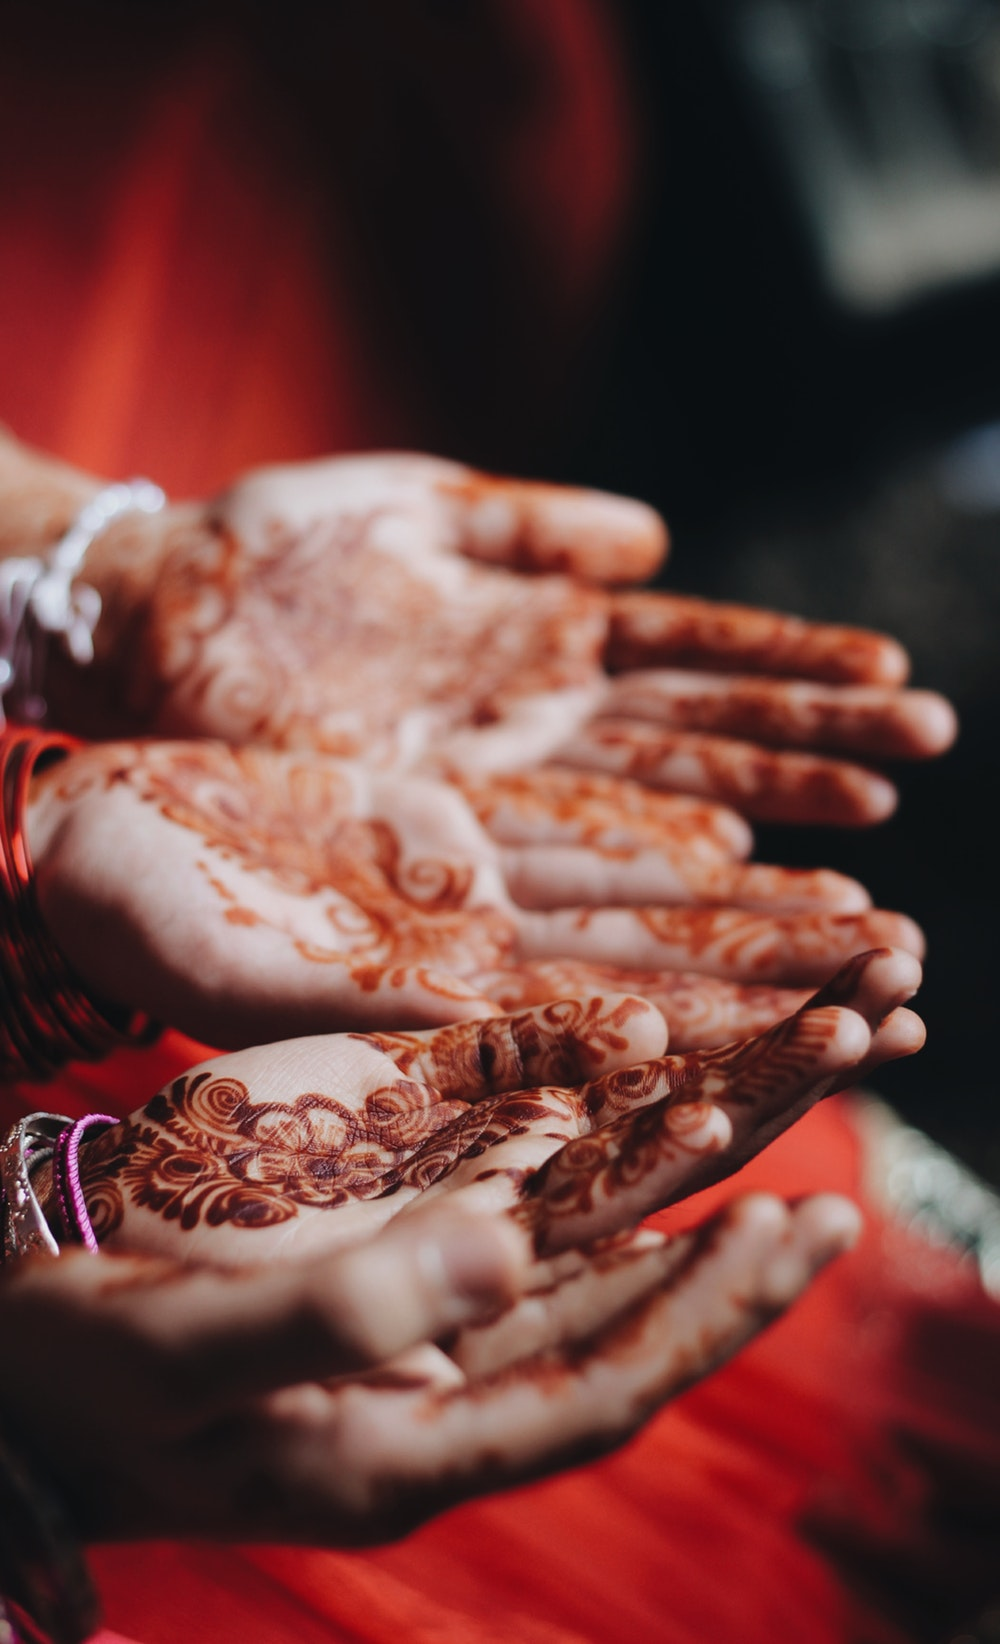palm: (88, 717, 495, 970), (178, 456, 525, 710), (192, 1051, 527, 1247)
